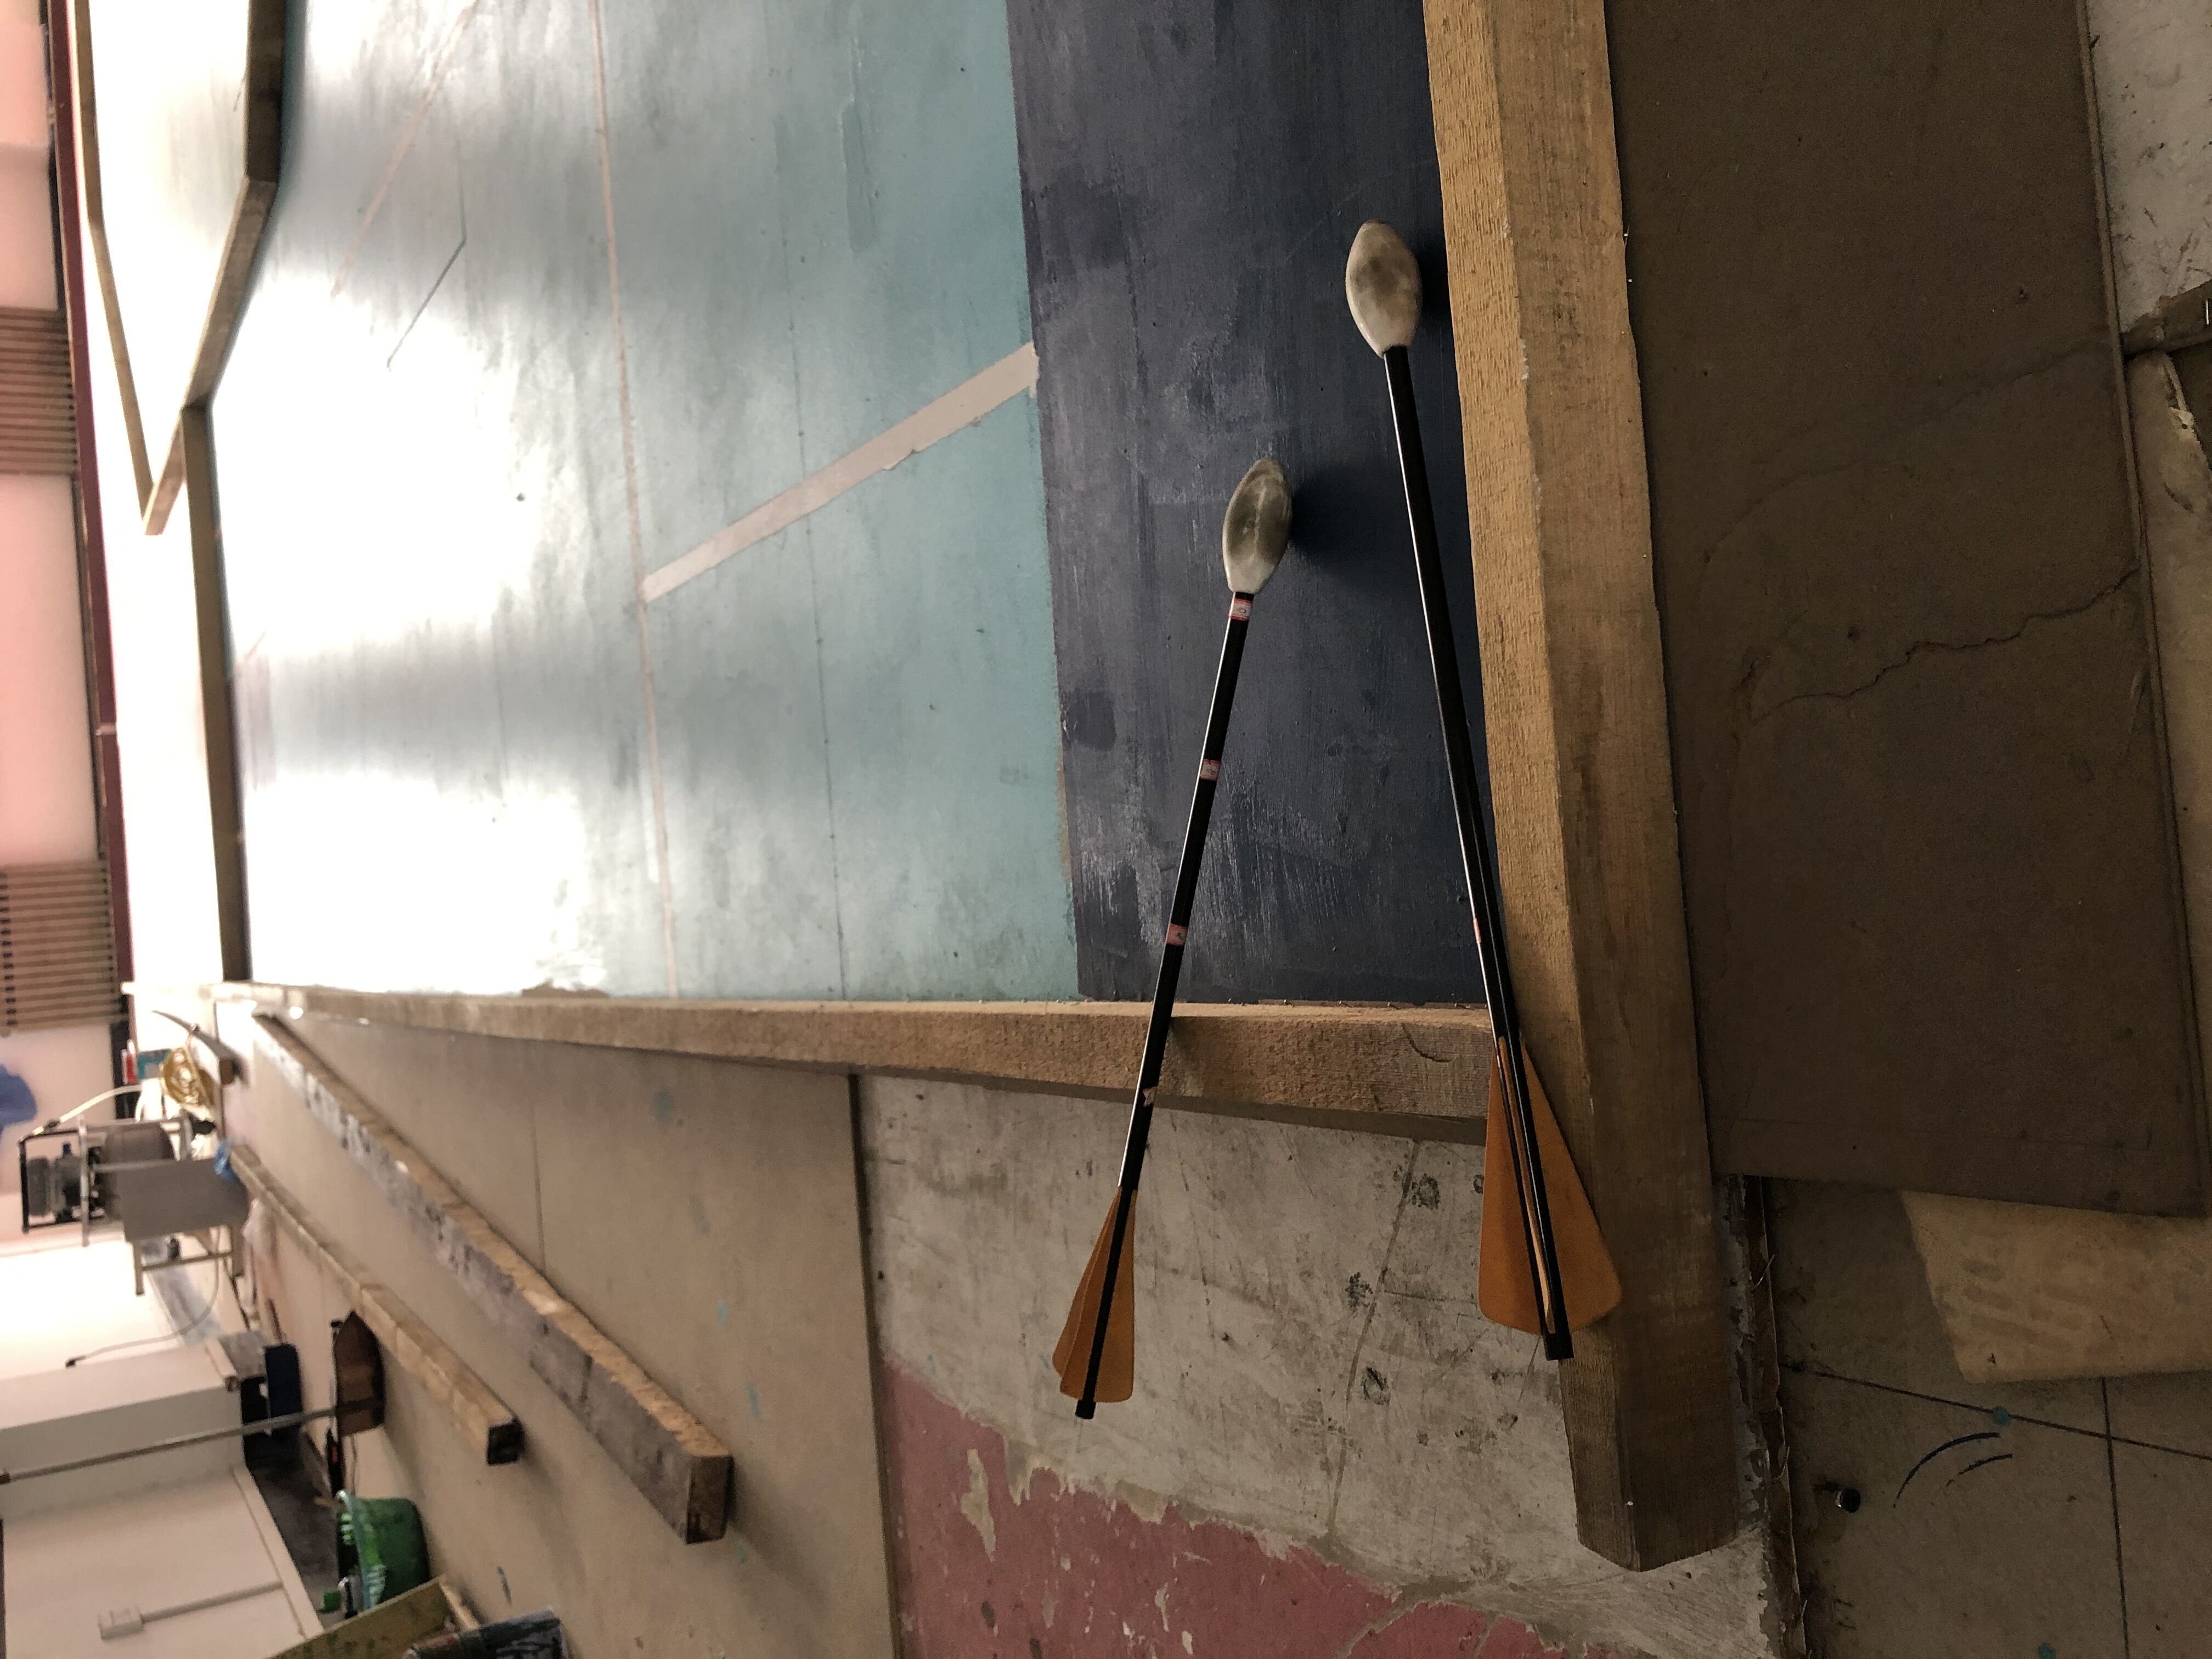arrow: (1341, 216, 1625, 1359), (1050, 457, 1294, 1422)
arrowFront: (1343, 213, 1421, 359), (1217, 457, 1291, 596)
